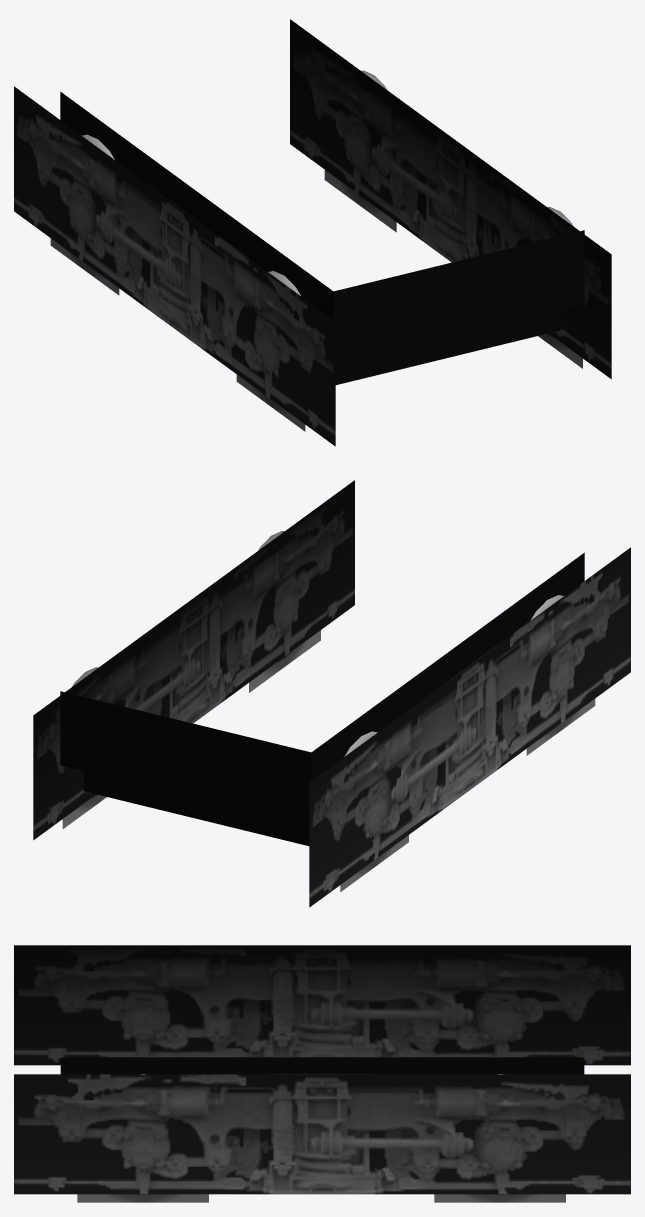
File: DENDTRACK00.glb
The picture shows the model from 3 angles, top to bottom: view 1: azimuth 30°, elevation 25°; view 2: azimuth 150°, elevation 25°; view 3: azimuth 270°, elevation 25°; orthographic projection. The views are drawn at different scales.
Parts seen in each view (by area): view 1: Track; view 2: Track; view 3: Track.
Part boxes in pixels (box(x1,y1,x2,y2)): Track: box(14, 19, 611, 446); Track: box(33, 480, 630, 907); Track: box(14, 945, 630, 1202).
Size of the model in its own units: 4.95 by 2.33 by 9.35.
3 materials, 2 textured.
